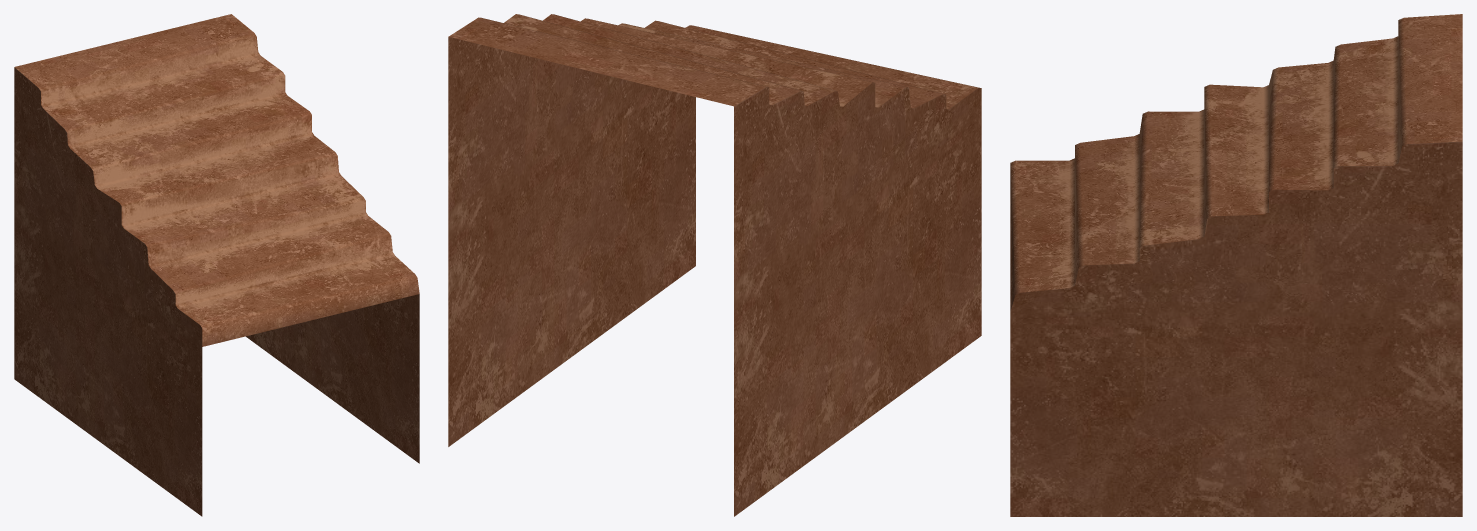
Rendered from stair_300cm_ne_rovno_01.glb.
The picture shows the model from 3 angles, left to right: view 1: azimuth 30°, elevation 25°; view 2: azimuth 150°, elevation 25°; view 3: azimuth 270°, elevation 25°; orthographic projection. The views are drawn at different scales.
Visible parts, largest first — view 1: stair_300cm_ne_rovno_01; view 2: stair_300cm_ne_rovno_01; view 3: stair_300cm_ne_rovno_01.
Part boxes in pixels (x1,y1,x2,y2): stair_300cm_ne_rovno_01: (14,14,419,516); stair_300cm_ne_rovno_01: (448,14,981,516); stair_300cm_ne_rovno_01: (1010,14,1462,516).
Bounding box in the file's own units: 2 × 2.75 × 3.
Materials: 1 (1 with a texture image).
